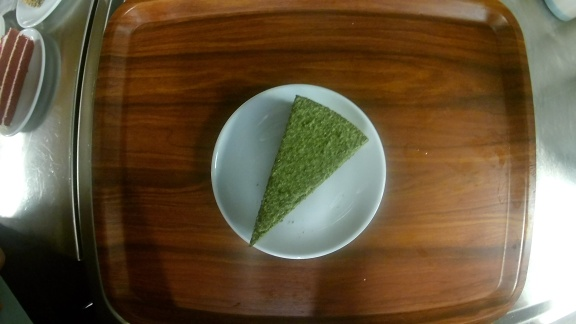fistiklipasta: (210, 83, 387, 259)
